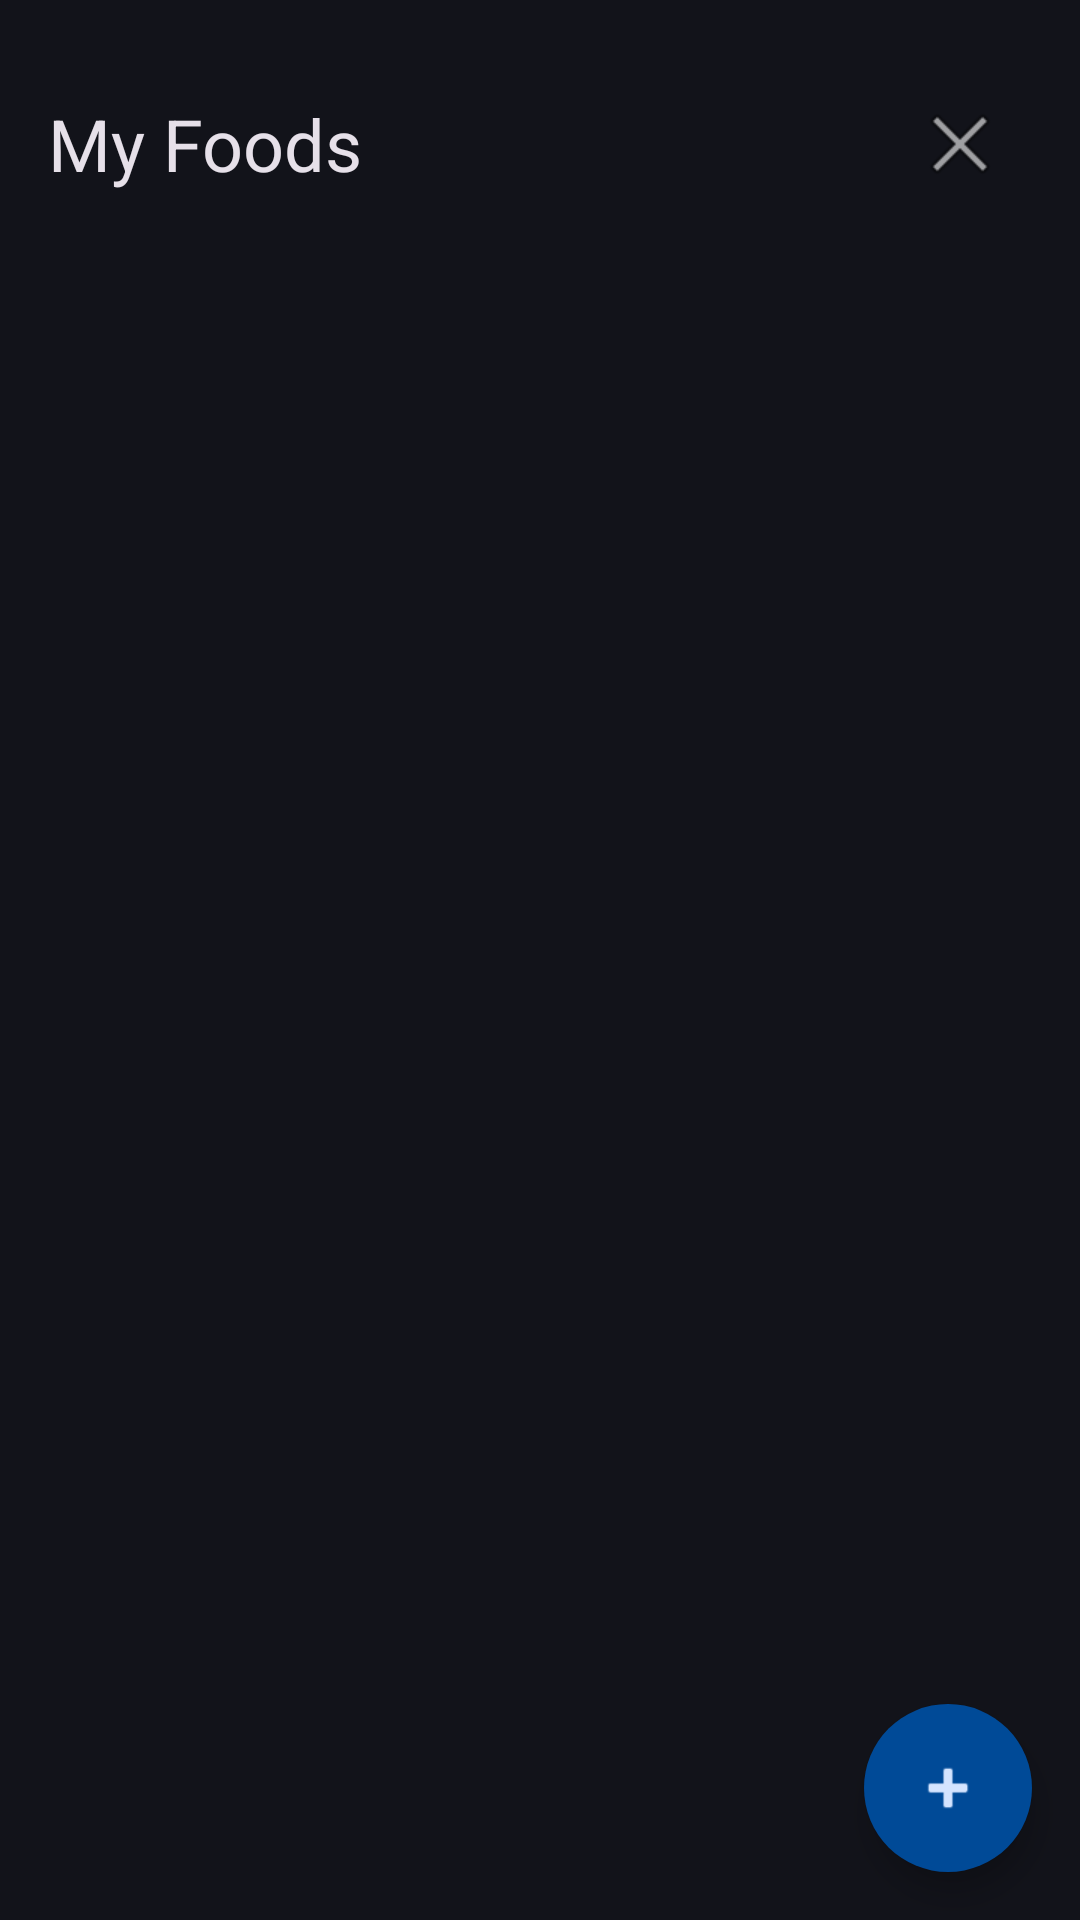

Point at icon controls on the screen. Image size 1080w x 1920h, points as point (x, y).
Add custom food: point (948, 1788)
Close: point (960, 144)
